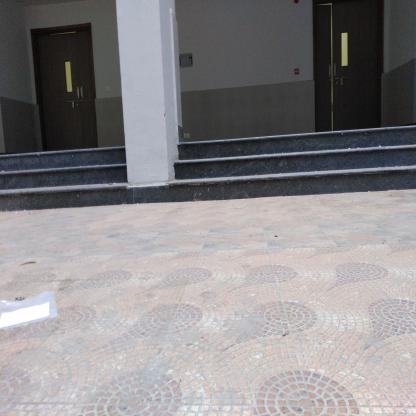stairs: (179, 135, 416, 200), (1, 148, 122, 213)
